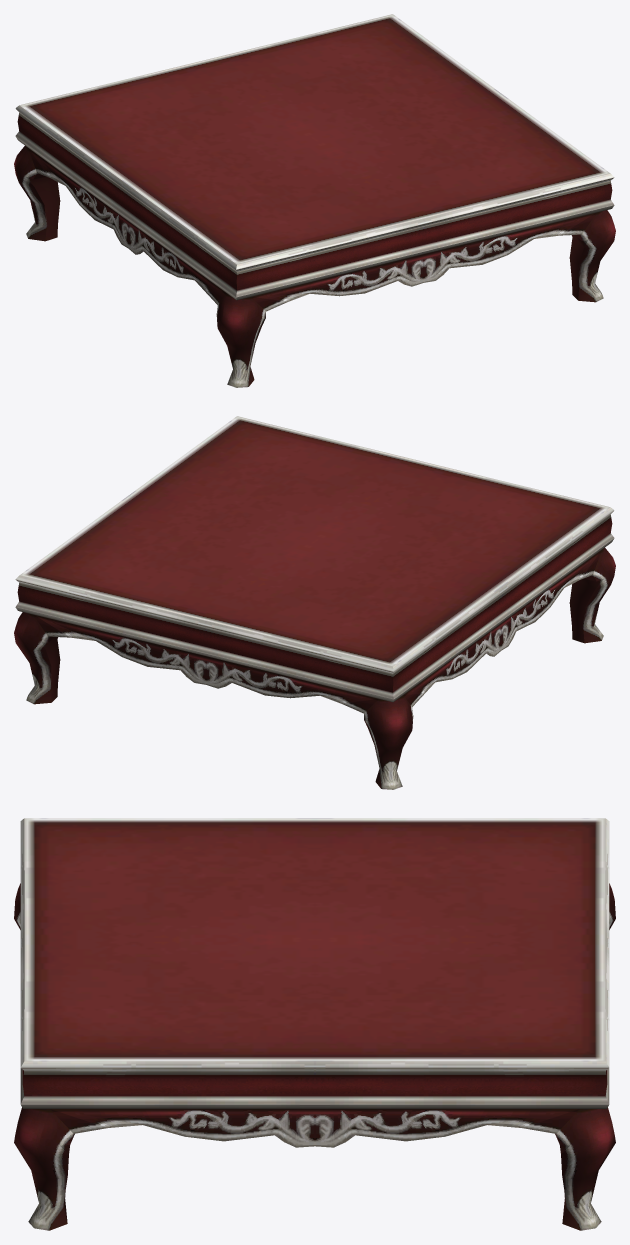
Rendered from furni_0201105_02.FBX.
3 views of the same model, one above another, from view 1: azimuth 30°, elevation 25°; view 2: azimuth 150°, elevation 25°; view 3: azimuth 270°, elevation 25° (orthographic). The views are drawn at different scales.
Parts seen in each view (by area): view 1: furni_0201105_02; view 2: furni_0201105_02; view 3: furni_0201105_02.
Part boxes in pixels (left/top/right/bottom): furni_0201105_02: left=14, top=14, right=615, bottom=387; furni_0201105_02: left=14, top=416, right=615, bottom=789; furni_0201105_02: left=14, top=818, right=615, bottom=1230.
Size of the model in its own units: 163 by 50.02 by 161.
1 material, 1 textured.
